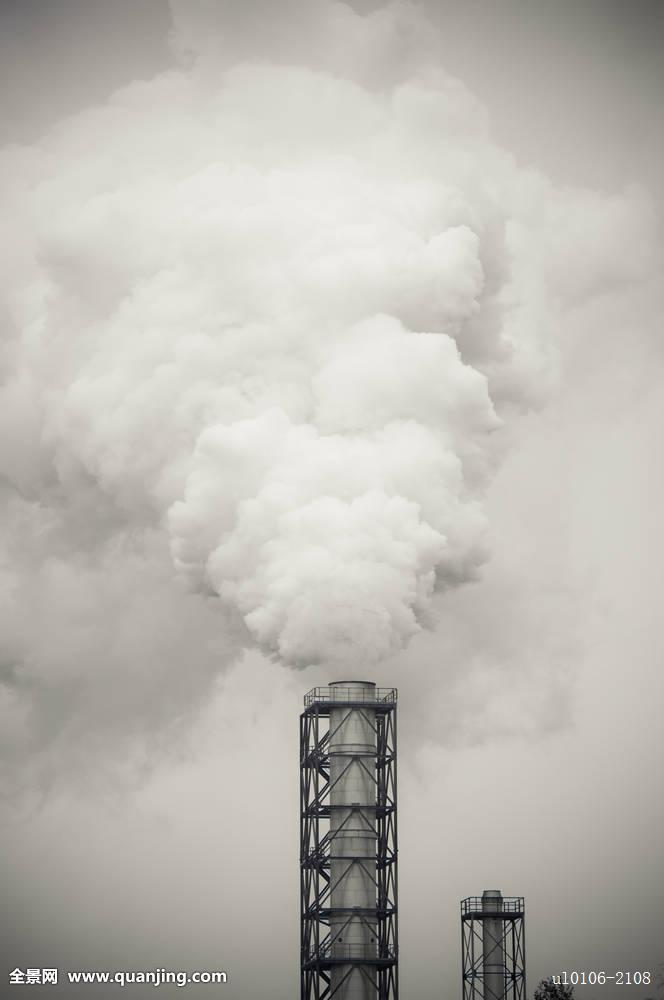dust: (74, 97, 536, 732)
